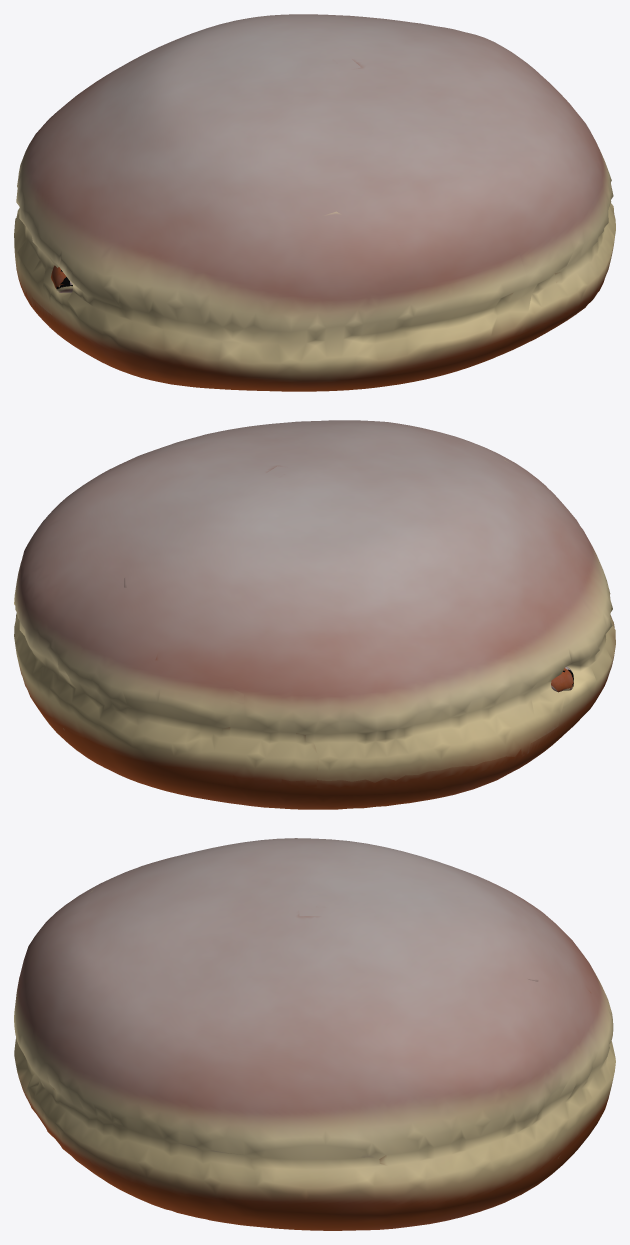
File: krapfen.glb
The picture shows the model from 3 angles, top to bottom: view 1: azimuth 30°, elevation 25°; view 2: azimuth 150°, elevation 25°; view 3: azimuth 270°, elevation 25°; orthographic projection. The views are drawn at different scales.
Parts seen in each view (by area): view 1: Krapfen; view 2: Krapfen; view 3: Krapfen.
Boxes of the visible parts, x1,y1,x2,y2 form: Krapfen: (14, 14, 615, 391); Krapfen: (14, 420, 615, 809); Krapfen: (14, 838, 615, 1230).
Size of the model in its own units: 0.1786 by 0.0781 by 0.1743.
Materials: 1 (1 with a texture image).
